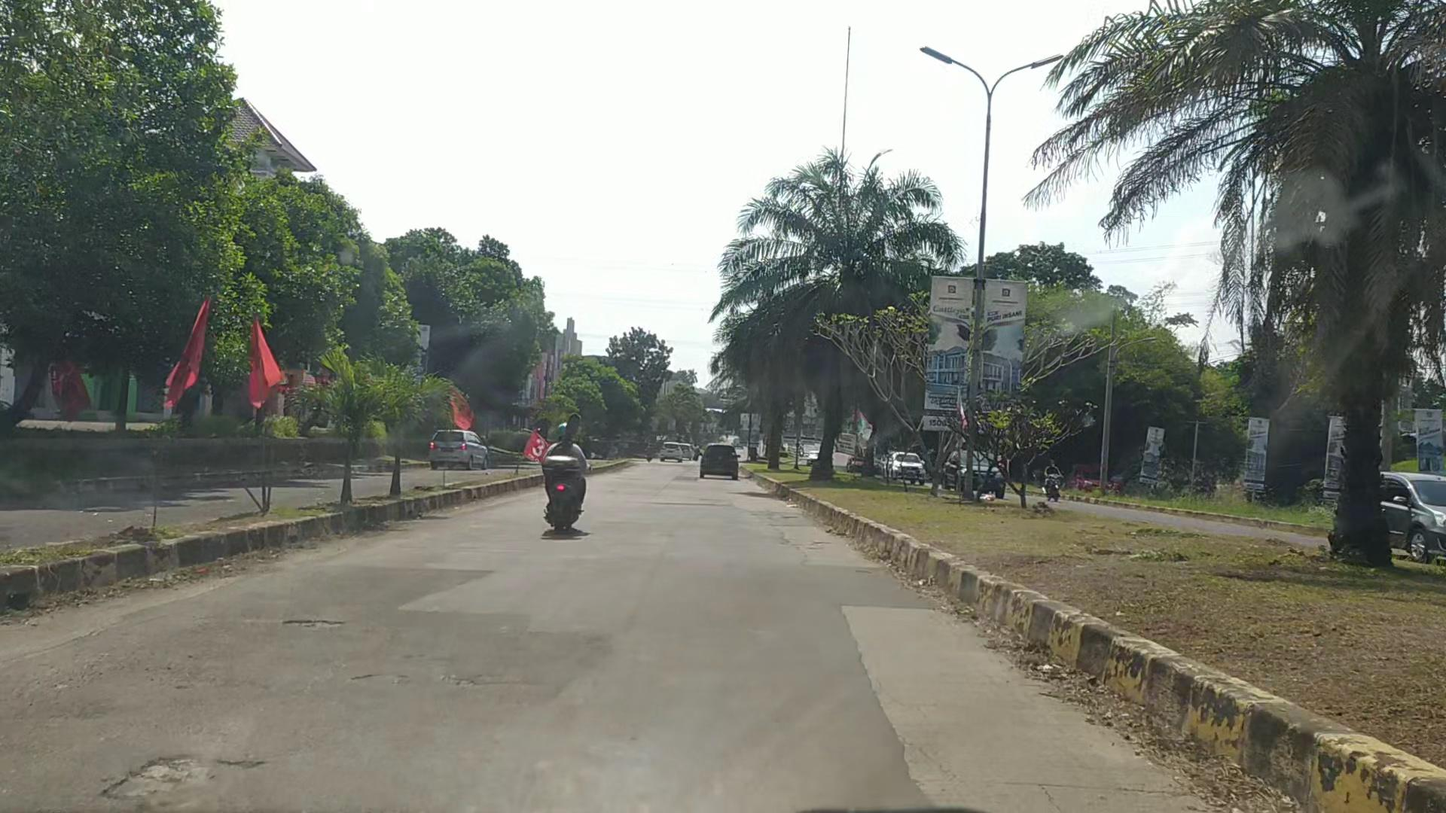pothole: (90, 747, 263, 805), (279, 617, 347, 632)
